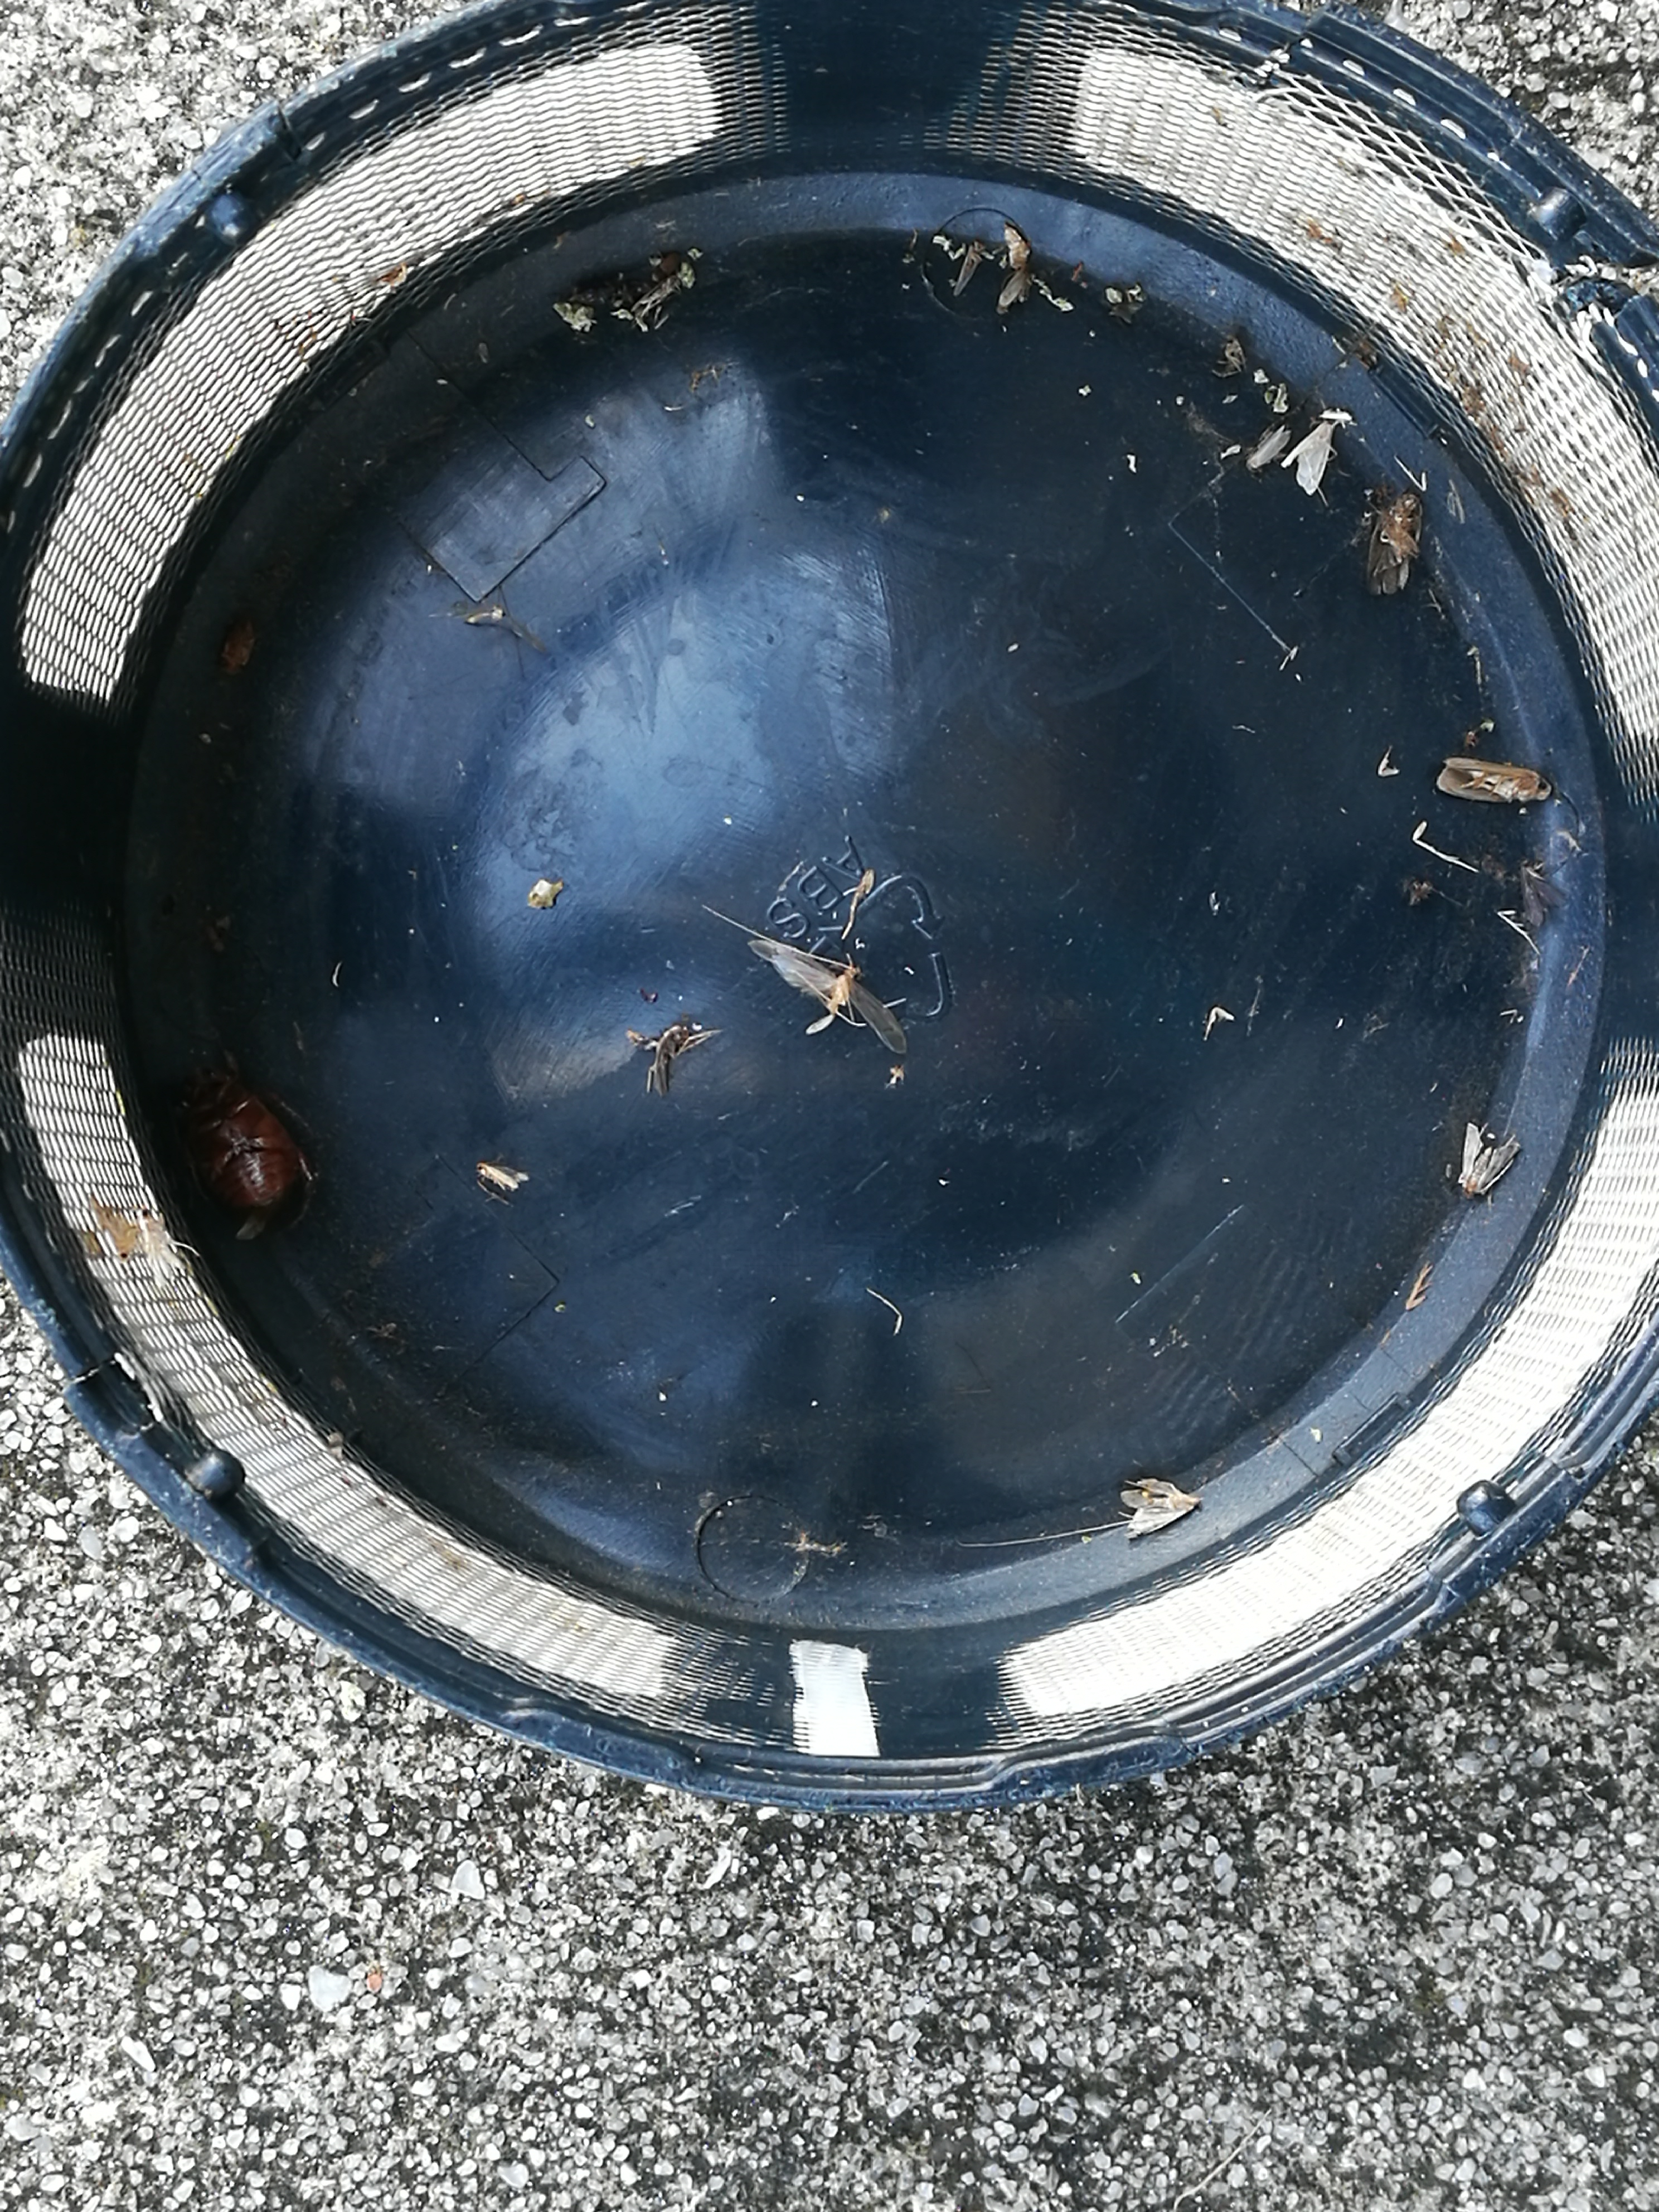beetle: (181, 1064, 310, 1238), (220, 617, 258, 671)
mosquito: (634, 277, 680, 317), (1249, 430, 1293, 469), (1000, 270, 1028, 314), (476, 1163, 518, 1188)
moth: (751, 939, 908, 1055), (1438, 758, 1549, 805), (1370, 496, 1422, 594), (1121, 1477, 1202, 1538), (1462, 1123, 1521, 1195), (1281, 420, 1335, 495)
